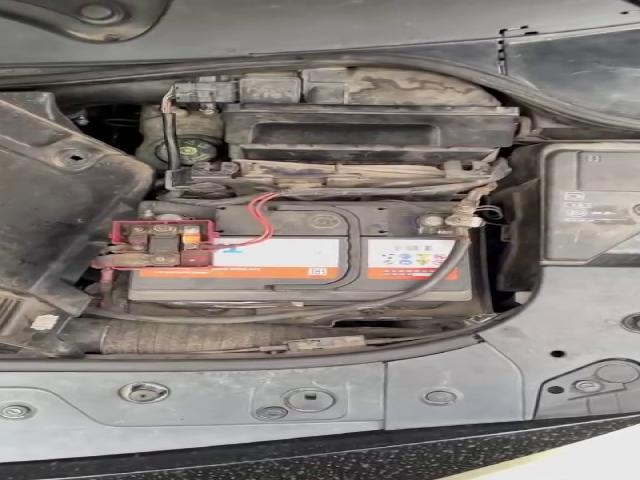accumulator: (89, 200, 481, 310)
fuse_box: (490, 140, 638, 289)
